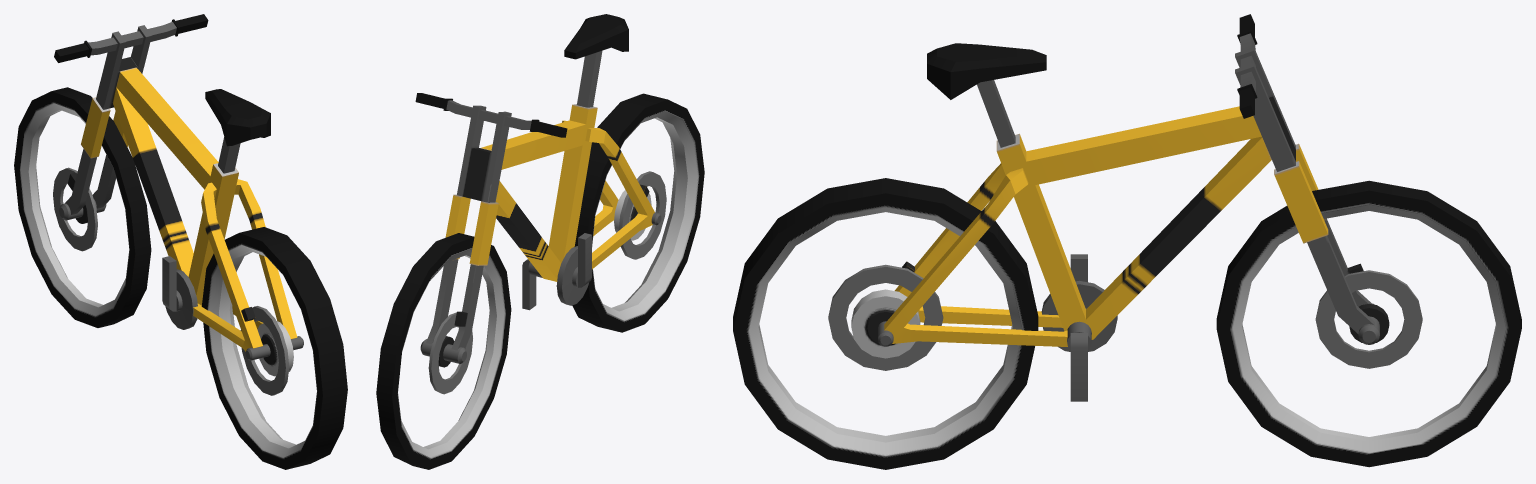
Rendered from mountain_bike.glb.
3 renders of one model, left to right at view 1: azimuth 30°, elevation 25°; view 2: azimuth 150°, elevation 25°; view 3: azimuth 270°, elevation 25°, orthographic. The views are drawn at different scales.
Parts seen in each view (by area): view 1: Mountain Bike Body, Mountain Bike Rear Wheel, Mountain Bike Front Wheel, Mountain Bike Handle, Mountain Bike Pedals; view 2: Mountain Bike Rear Wheel, Mountain Bike Body, Mountain Bike Front Wheel, Mountain Bike Handle, Mountain Bike Pedals; view 3: Mountain Bike Body, Mountain Bike Rear Wheel, Mountain Bike Front Wheel, Mountain Bike Handle, Mountain Bike Pedals.
Part boxes in pixels (left/top/right/bottom): Mountain Bike Body: left=112, top=67, right=297, bottom=351; Mountain Bike Rear Wheel: left=201, top=227, right=347, bottom=469; Mountain Bike Front Wheel: left=14, top=87, right=151, bottom=327; Mountain Bike Handle: left=54, top=14, right=208, bottom=214; Mountain Bike Pedals: left=162, top=256, right=197, bottom=329; Mountain Bike Rear Wheel: left=572, top=93, right=704, bottom=332; Mountain Bike Body: left=480, top=14, right=654, bottom=281; Mountain Bike Front Wheel: left=376, top=233, right=511, bottom=469; Mountain Bike Handle: left=415, top=93, right=567, bottom=350; Mountain Bike Pedals: left=522, top=233, right=591, bottom=310; Mountain Bike Body: left=884, top=43, right=1271, bottom=346; Mountain Bike Rear Wheel: left=733, top=178, right=1038, bottom=469; Mountain Bike Front Wheel: left=1216, top=180, right=1521, bottom=467; Mountain Bike Handle: left=1235, top=14, right=1374, bottom=333; Mountain Bike Pedals: left=1041, top=254, right=1117, bottom=401.
Bounding box in the file's own units: 0.9753 × 2.04 × 3.57.
Materials: 1 (1 with a texture image).
